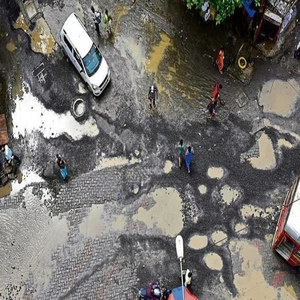pothole: (142, 187, 186, 236), (258, 76, 299, 121), (247, 132, 276, 171), (217, 185, 241, 203), (202, 251, 223, 271), (187, 234, 209, 250), (213, 230, 230, 245), (208, 166, 225, 179)
